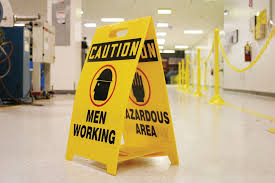wet caution sign: (64, 16, 183, 171)
